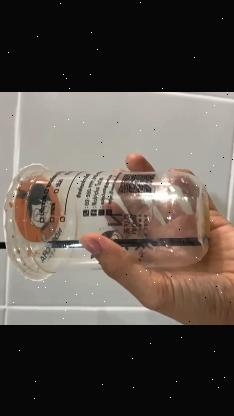Others: (4, 162, 212, 282)
